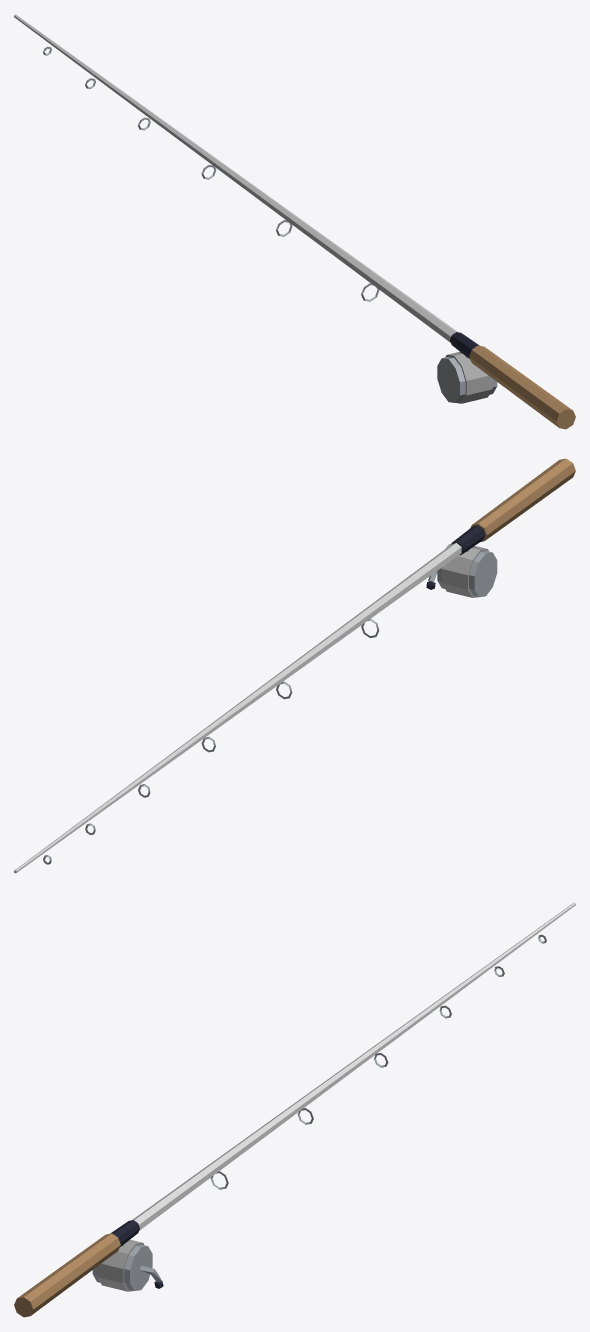
The model's file is rod.fbx.
3 renders of one model, top to bottom at view 1: azimuth 30°, elevation 25°; view 2: azimuth 150°, elevation 25°; view 3: azimuth 330°, elevation 25°, orthographic.
Parts seen in each view (by area): view 1: rod_0; view 2: rod_0; view 3: rod_0.
Boxes of the visible parts, box(x1,y1,x2,y2) form: rod_0: box(14, 14, 575, 429); rod_0: box(14, 458, 575, 873); rod_0: box(14, 902, 575, 1317).
Bounding box in the file's own units: 0.1407 × 0.161 × 2.56.
